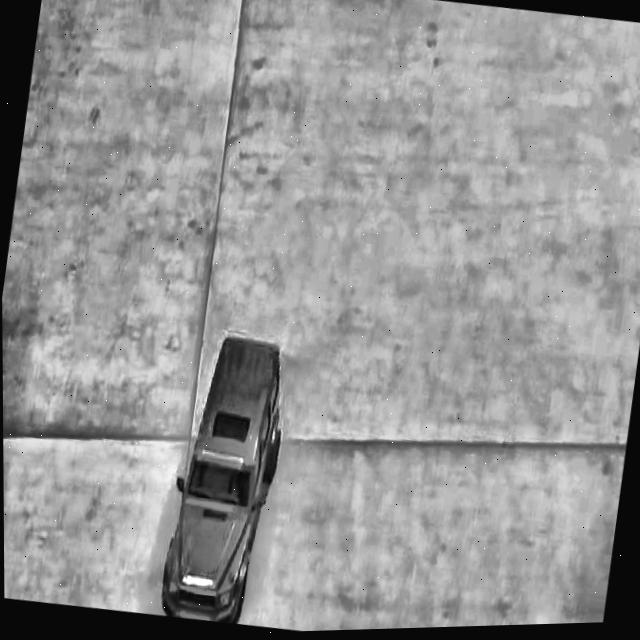light_vehicle: (149, 320, 301, 631)
